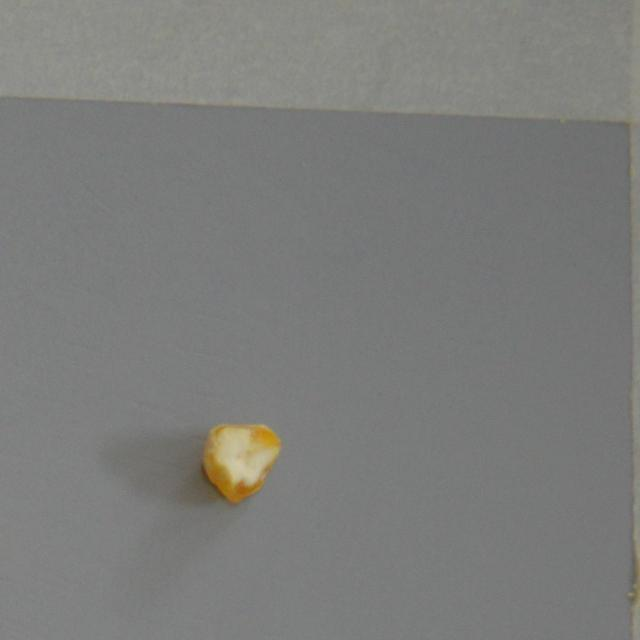pelicula: (199, 420, 281, 504)
